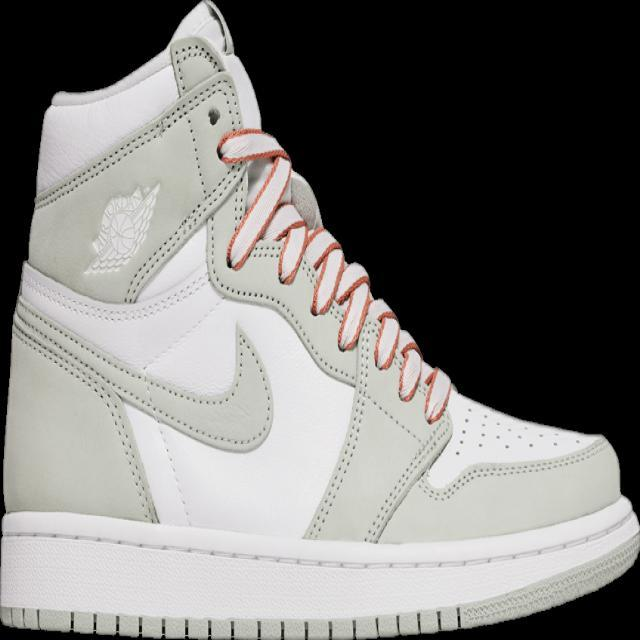J1_InsoleChar: (1, 1, 638, 638)
J1_ShoeLogo: (81, 179, 161, 275)
J1_StitchPattern: (32, 42, 456, 429), (1, 499, 638, 637), (219, 134, 454, 424), (10, 296, 273, 453), (10, 298, 160, 522), (31, 71, 239, 211), (2, 604, 466, 638), (418, 435, 609, 504)
